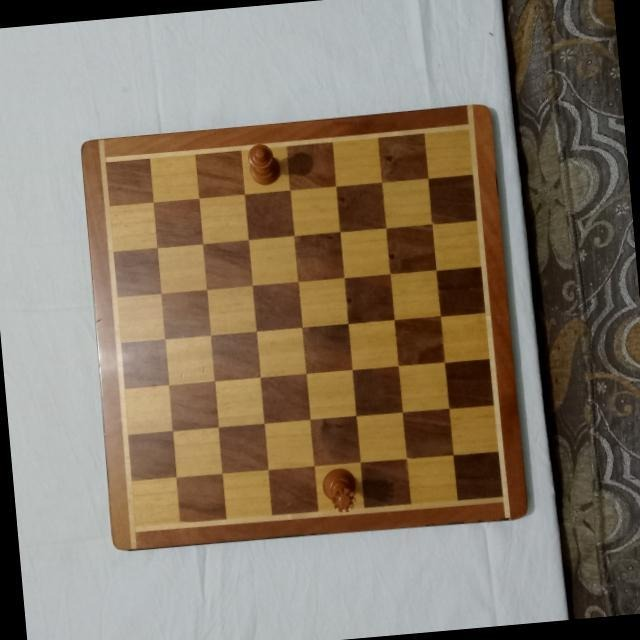white-king: (246, 139, 282, 186)
white-queen: (317, 461, 359, 514)
